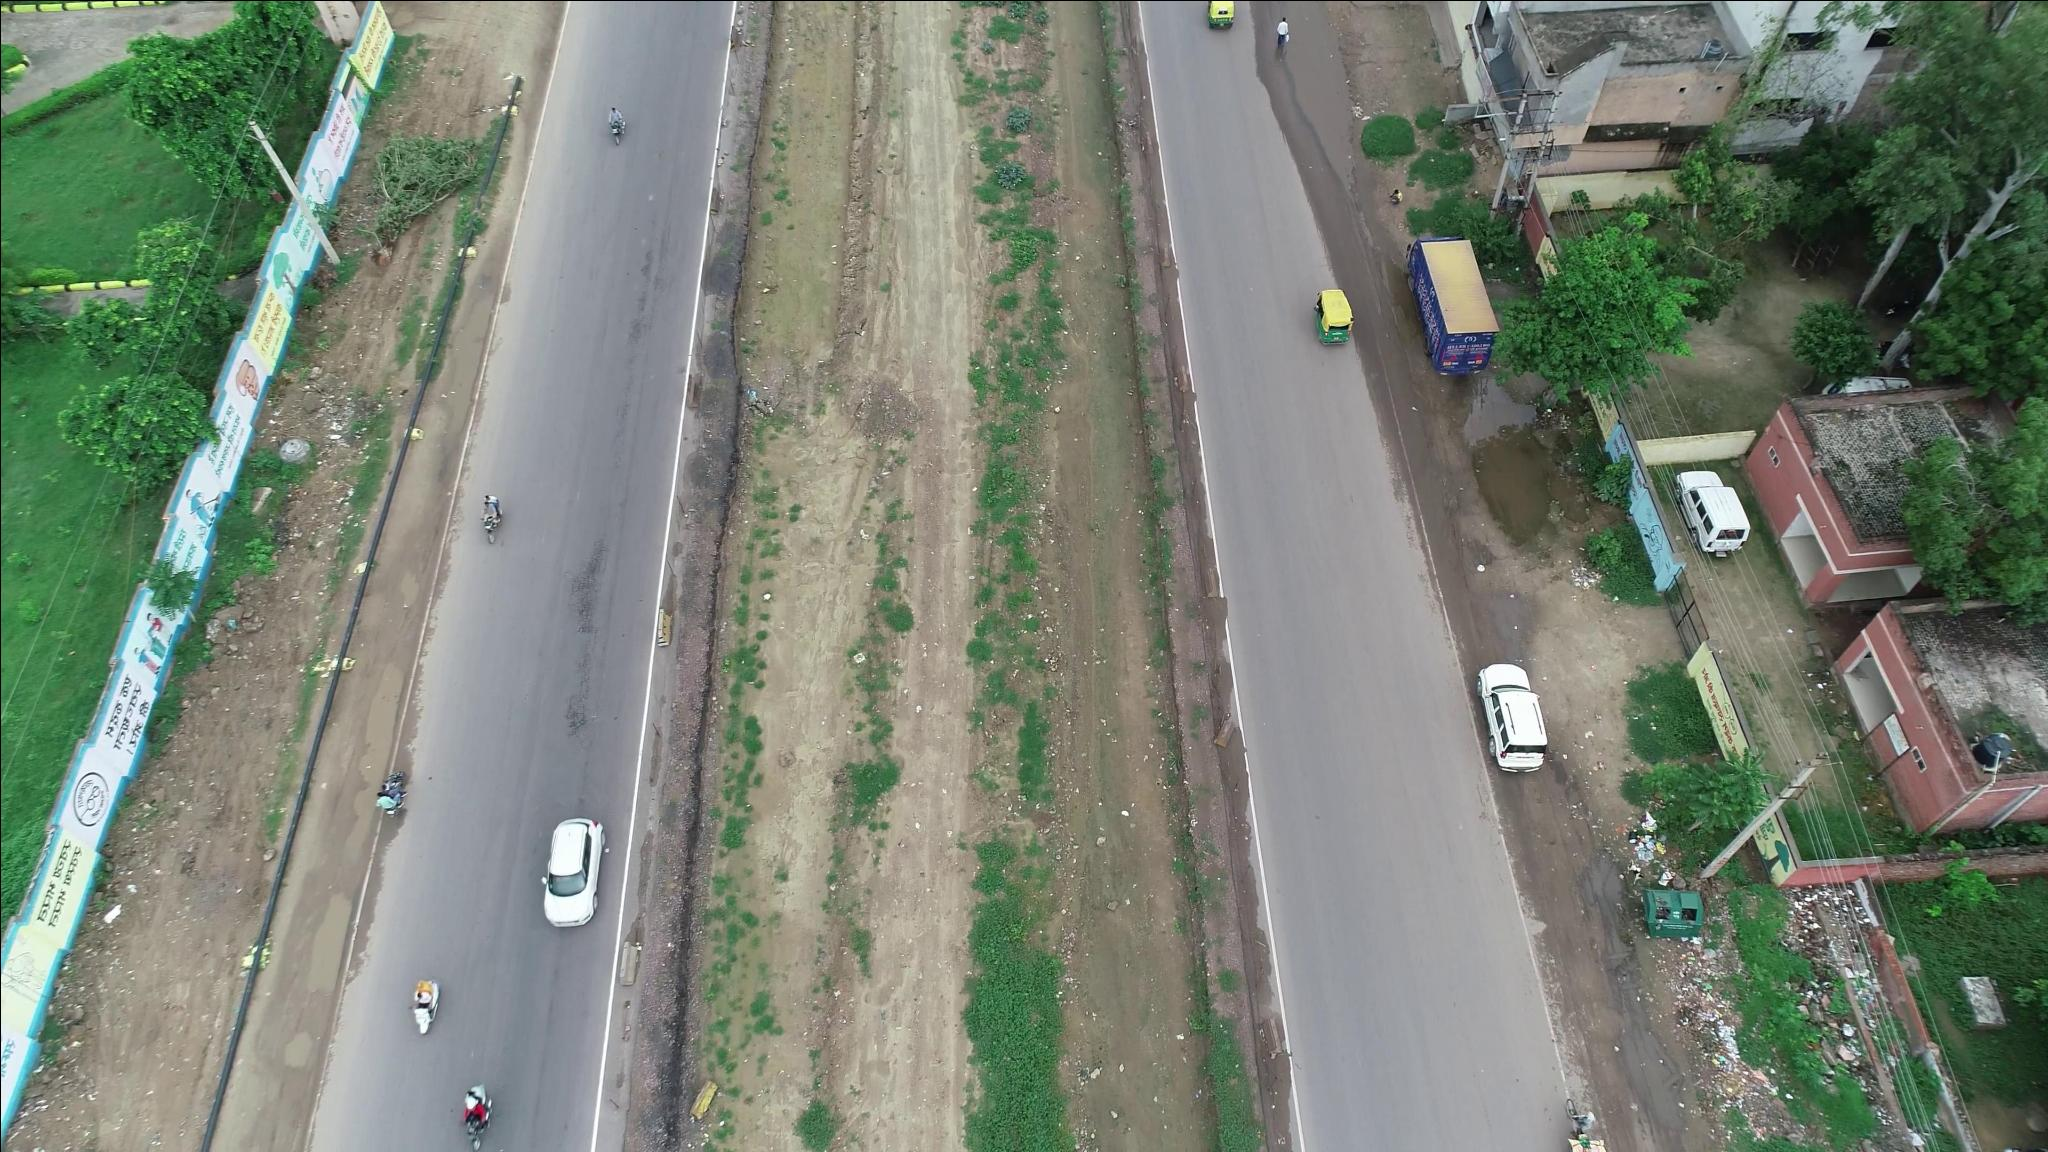Cracks: (556, 530, 625, 738)
